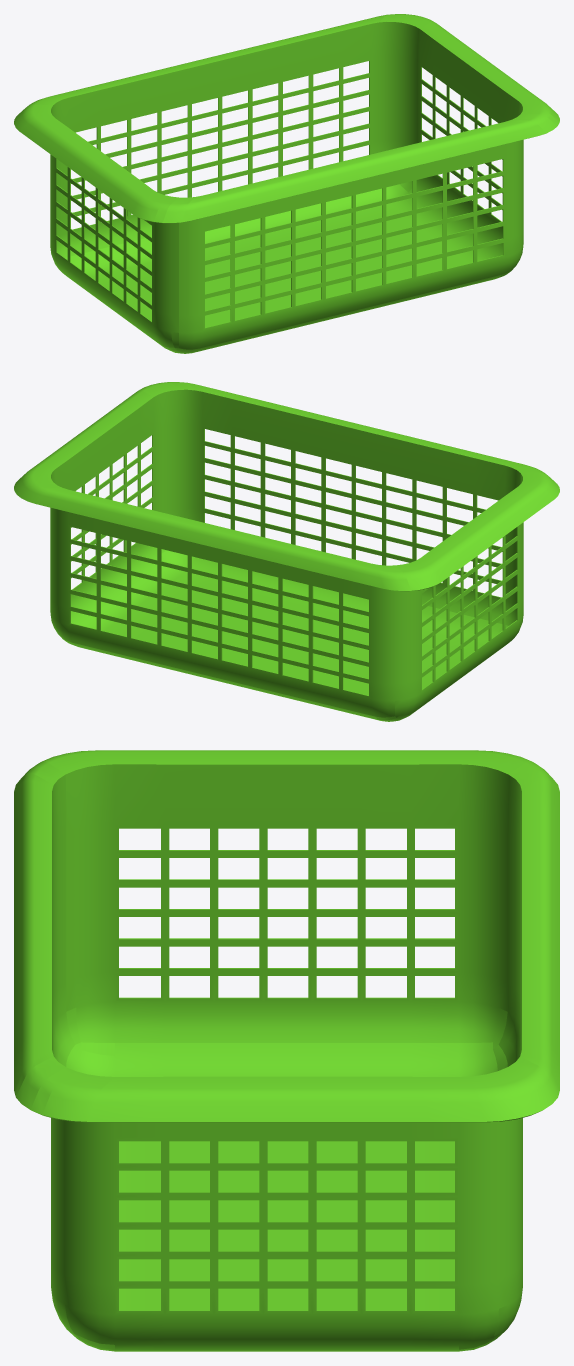
The model's file is 洗衣籃_2.fbx.
The picture shows the model from 3 angles, top to bottom: view 1: azimuth 30°, elevation 25°; view 2: azimuth 150°, elevation 25°; view 3: azimuth 270°, elevation 25°; orthographic projection. The views are drawn at different scales.
Visible parts, largest first — view 1: 000-0-0; view 2: 000-0-0; view 3: 000-0-0.
Part boxes in pixels (<box>): 000-0-0: <box>14,14,559,353</box>; 000-0-0: <box>14,382,559,721</box>; 000-0-0: <box>14,750,559,1351</box>.
Size of the model in its own units: 96.74 by 36.86 by 61.7.
